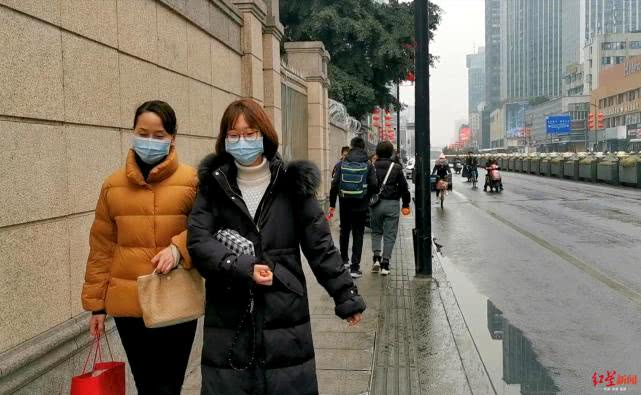mask: (220, 131, 274, 167), (132, 128, 163, 162)
